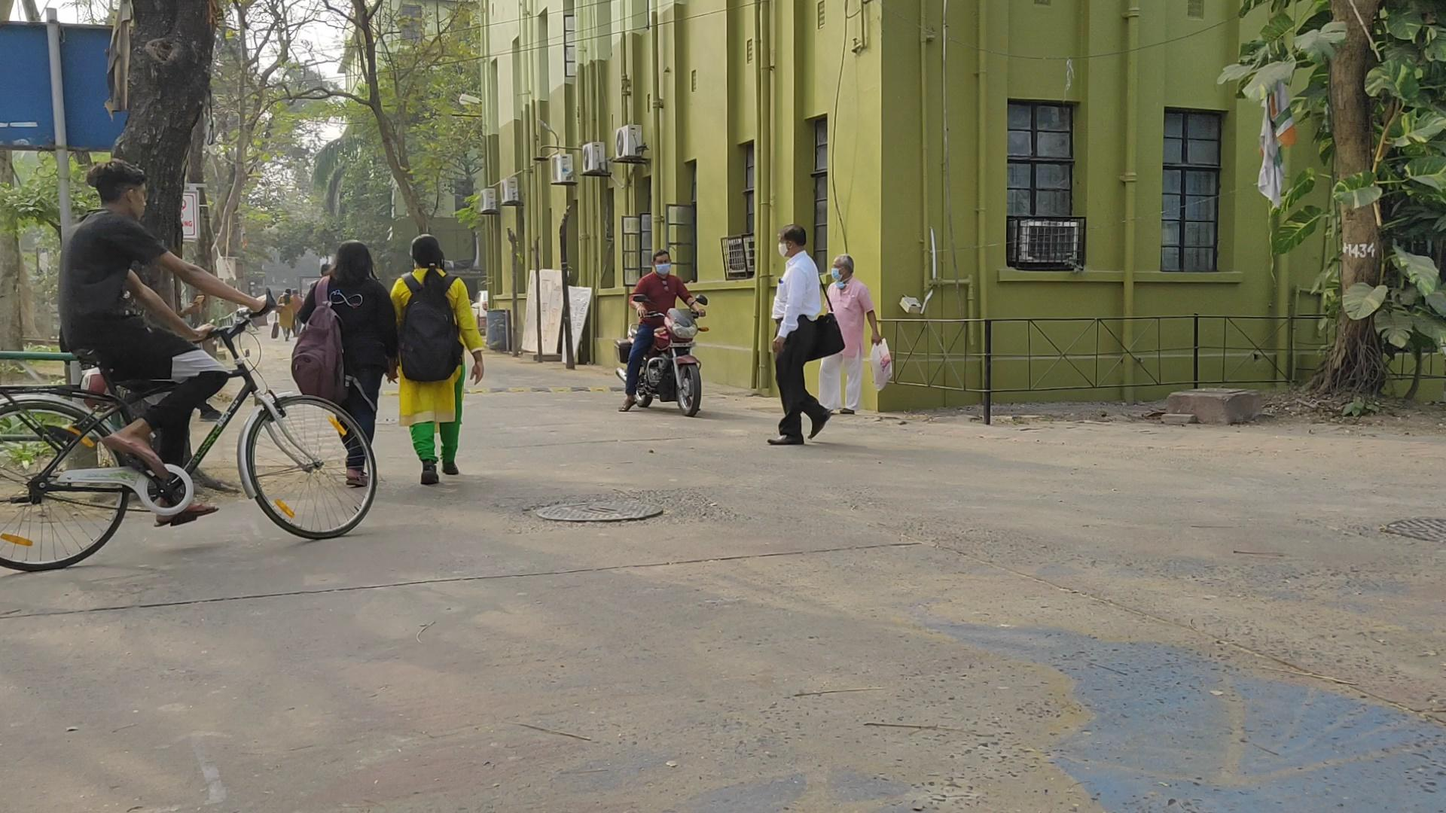bike: (5, 158, 377, 572), (613, 251, 705, 417)
